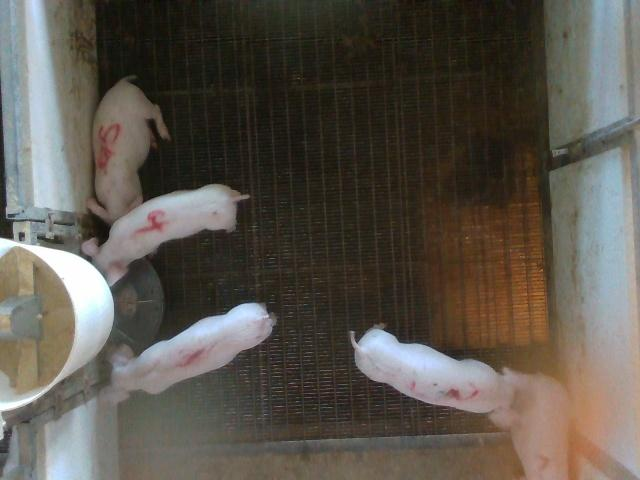pig-1: (109, 304, 275, 402)
pig-3: (350, 326, 528, 428)
pig-4: (82, 184, 249, 286)
pig-5: (88, 75, 170, 224)
